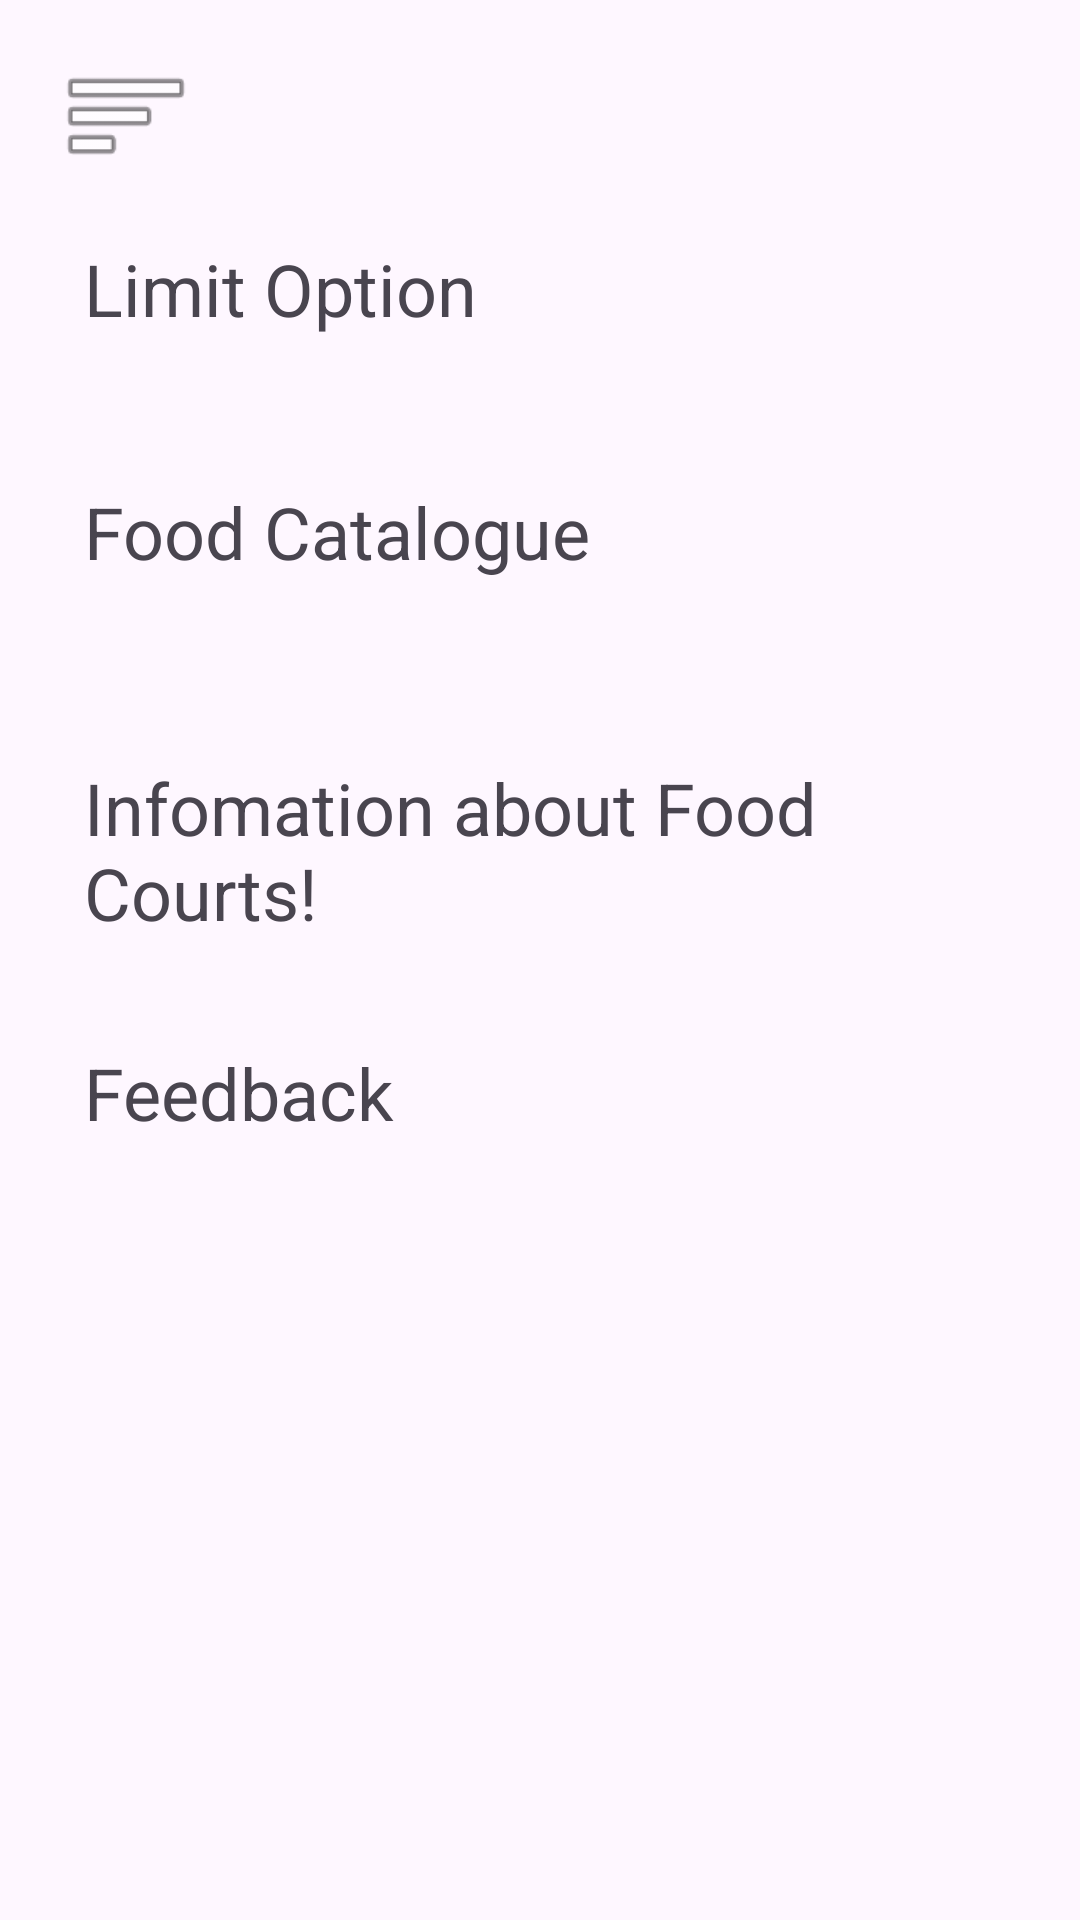

Named icons in this screenshot (1080×1920) and their bounding boxes, [x1,y1,x2,y2]:
sort by size: [68,78,184,154]
